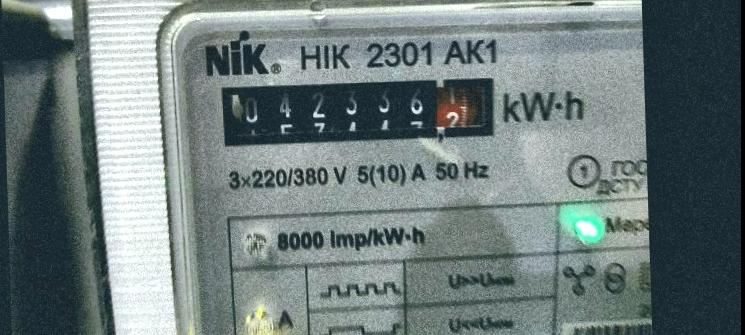0: (241, 95, 258, 123)
1: (444, 83, 457, 105)
2: (309, 89, 326, 118), (443, 108, 460, 127)
3: (373, 84, 390, 114), (341, 87, 357, 115)
4: (275, 89, 293, 118)
6: (407, 85, 425, 115)
screen: (209, 64, 507, 154)
